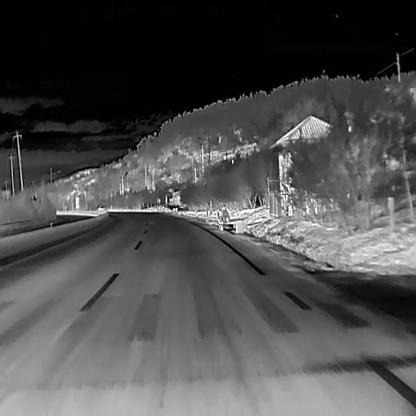car: (95, 203, 106, 211)
